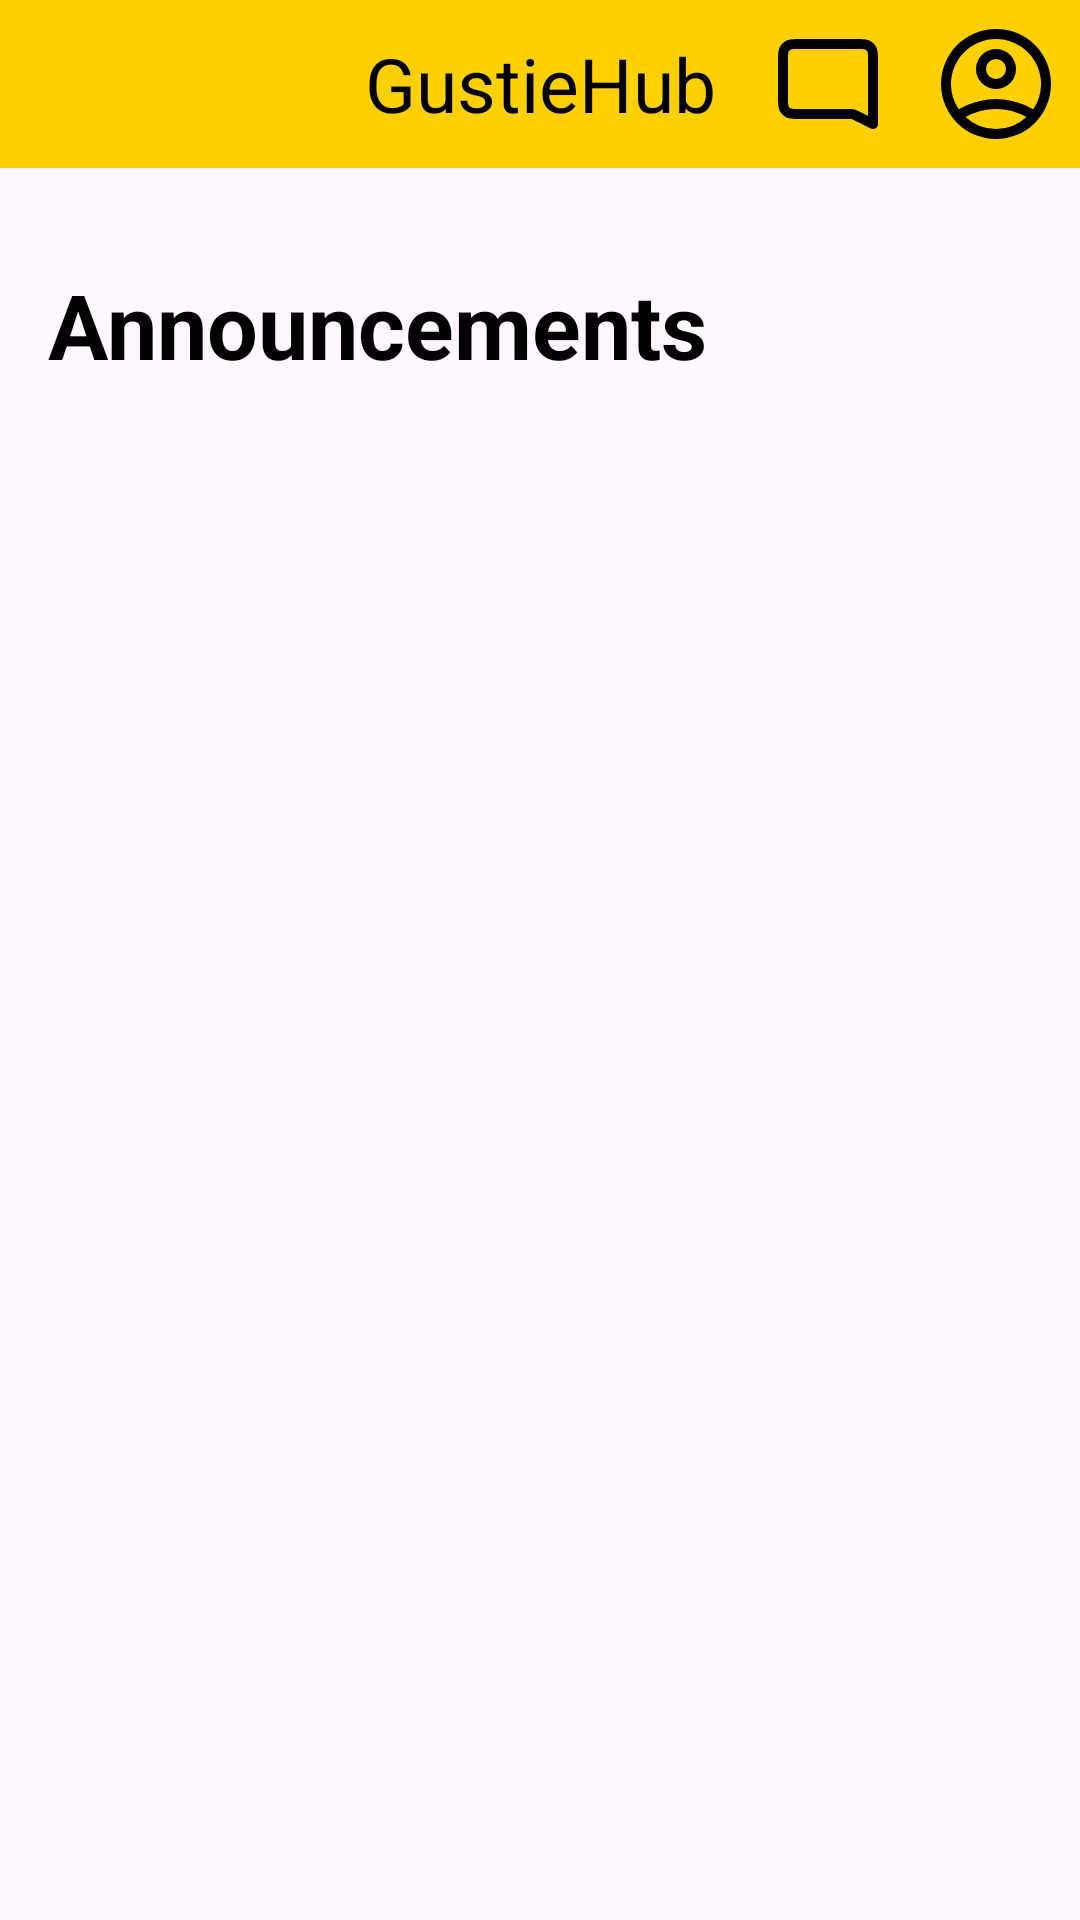

Locate icon controls on the screen. Image size 1080w x 1920h, boxes as {"x1": x1, "y1": y1, "x2": x2, "y2": y2}.
message: {"x1": 778, "y1": 39, "x2": 878, "y2": 129}
profile: {"x1": 941, "y1": 29, "x2": 1051, "y2": 139}
